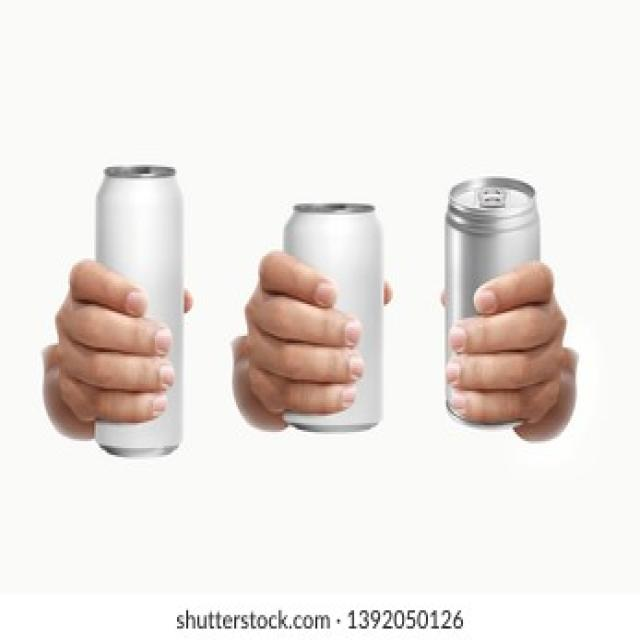soda_can: (410, 153, 559, 481), (70, 151, 204, 472), (259, 182, 400, 483)
